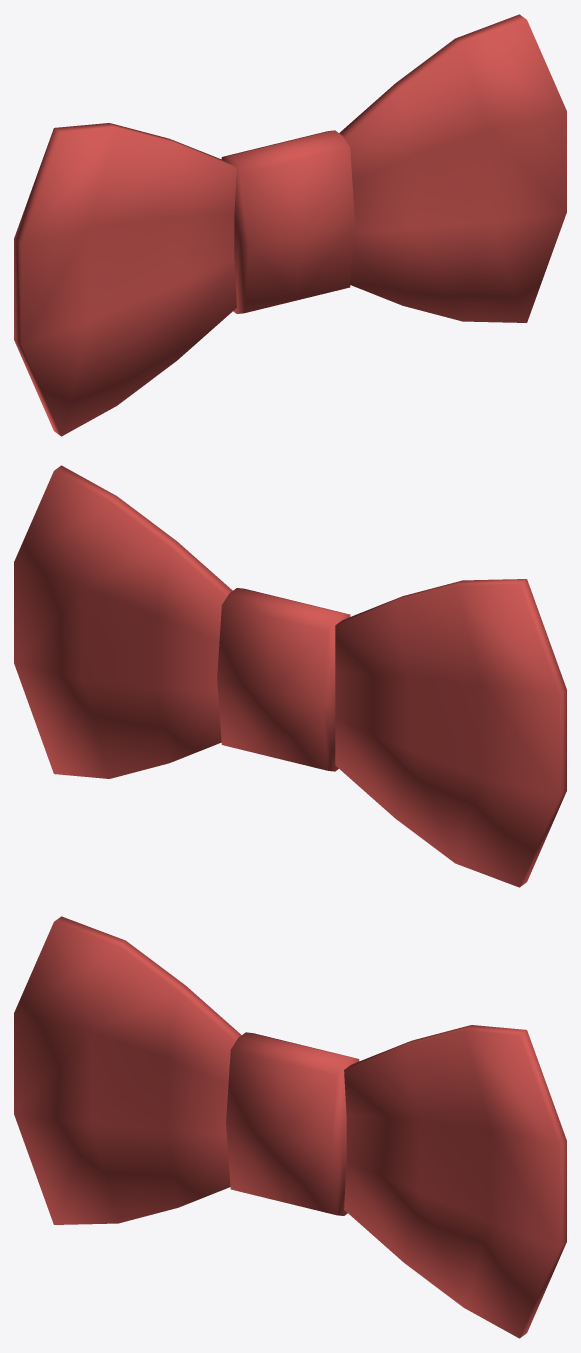
Rendered from Bow.glb.
3 views of the same model, one above another, from view 1: azimuth 30°, elevation 25°; view 2: azimuth 150°, elevation 25°; view 3: azimuth 330°, elevation 25° (orthographic).
Parts seen in each view (by area): view 1: Plane.006; view 2: Plane.006; view 3: Plane.006.
Part boxes in pixels (left/top/right/bottom): Plane.006: left=14, top=14, right=566, bottom=436; Plane.006: left=14, top=465, right=566, bottom=887; Plane.006: left=14, top=916, right=566, bottom=1338.
Size of the model in its own units: 0.5182 by 0.2753 by 0.0528.
1 material, 1 textured.
